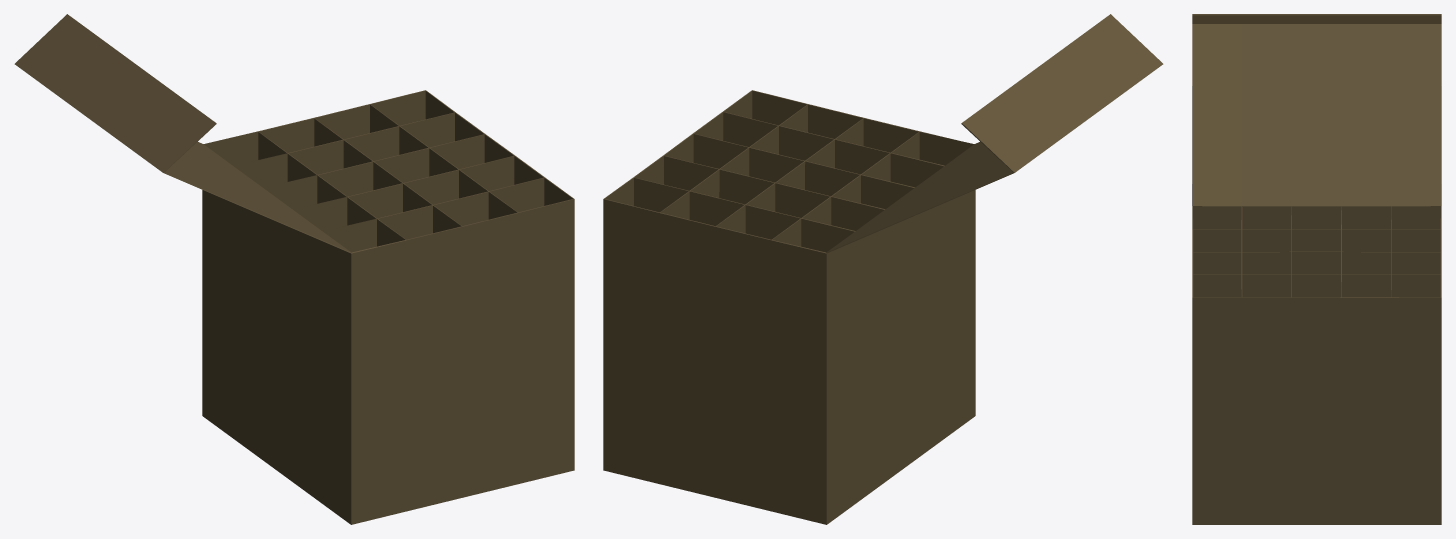
File: LeBox.fbx
3 renders of one model, left to right at view 1: azimuth 30°, elevation 25°; view 2: azimuth 150°, elevation 25°; view 3: azimuth 270°, elevation 25°, orthographic. The views are drawn at different scales.
Parts seen in each view (by area): view 1: Plane; view 2: Plane; view 3: Plane.
Part boxes in pixels (box(x1,y1,x2,y2)): Plane: box(14, 14, 574, 524); Plane: box(603, 14, 1163, 524); Plane: box(1192, 14, 1441, 524).
Bounding box in the file's own units: 6.61 × 6.68 × 4.14.
